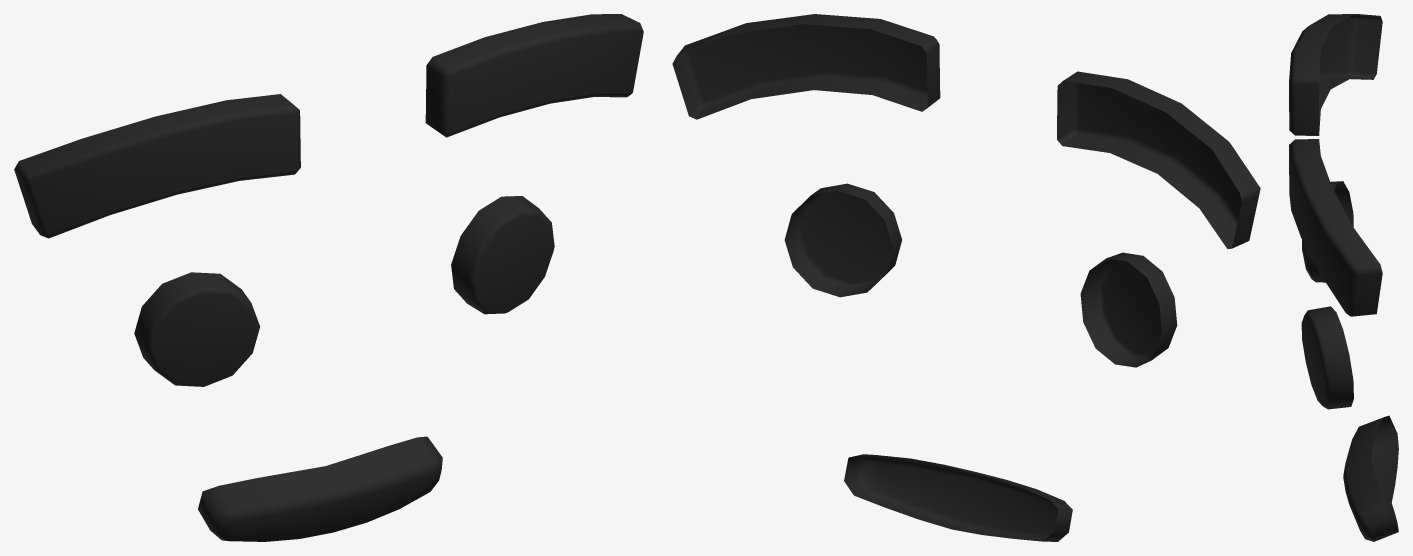
The model's file is Male_Emotion_Neutral_02.glb.
3 renders of one model, left to right at view 1: azimuth 30°, elevation 25°; view 2: azimuth 150°, elevation 25°; view 3: azimuth 270°, elevation 25°, orthographic. The views are drawn at different scales.
Parts seen in each view (by area): view 1: Male_Emotion_Neutral_02; view 2: Male_Emotion_Neutral_02; view 3: Male_Emotion_Neutral_02.
Part boxes in pixels (x1,y1,x2,y2): Male_Emotion_Neutral_02: [14, 14, 643, 541]; Male_Emotion_Neutral_02: [672, 14, 1260, 541]; Male_Emotion_Neutral_02: [1289, 14, 1398, 541].
Bounding box in the file's own units: 0.2582 × 0.1927 × 0.0469.
1 material, 1 textured.
